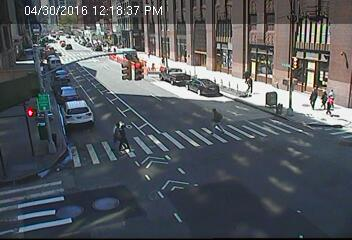neg: (231, 22, 252, 50), (298, 49, 314, 71), (167, 22, 177, 35)
